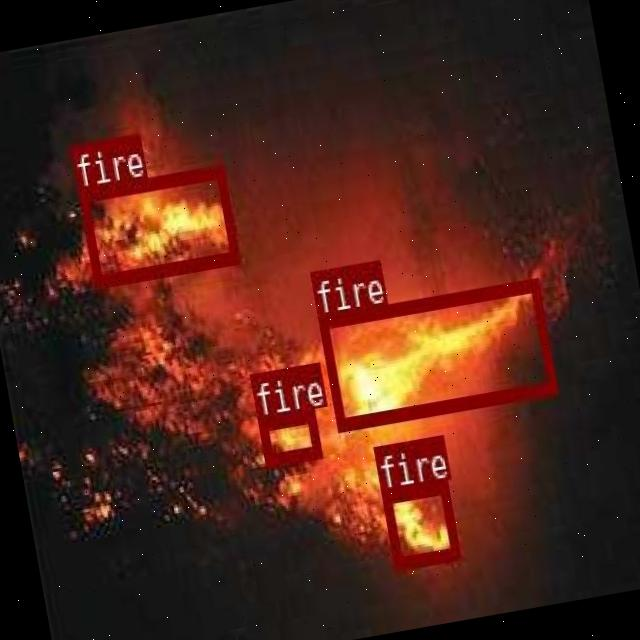fire: (317, 276, 556, 430), (76, 162, 238, 285), (379, 479, 458, 569), (255, 407, 320, 464)
